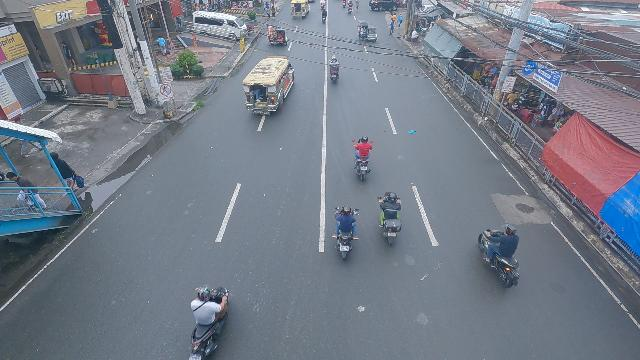jeepney: (241, 55, 296, 117), (291, 0, 311, 20)
motorcycle: (179, 284, 234, 360), (476, 224, 524, 288), (376, 189, 405, 249), (331, 204, 359, 260), (353, 136, 374, 181), (328, 55, 341, 83), (321, 8, 327, 24), (347, 3, 353, 14), (320, 0, 326, 9), (342, 0, 346, 8)
van: (189, 10, 247, 42)
